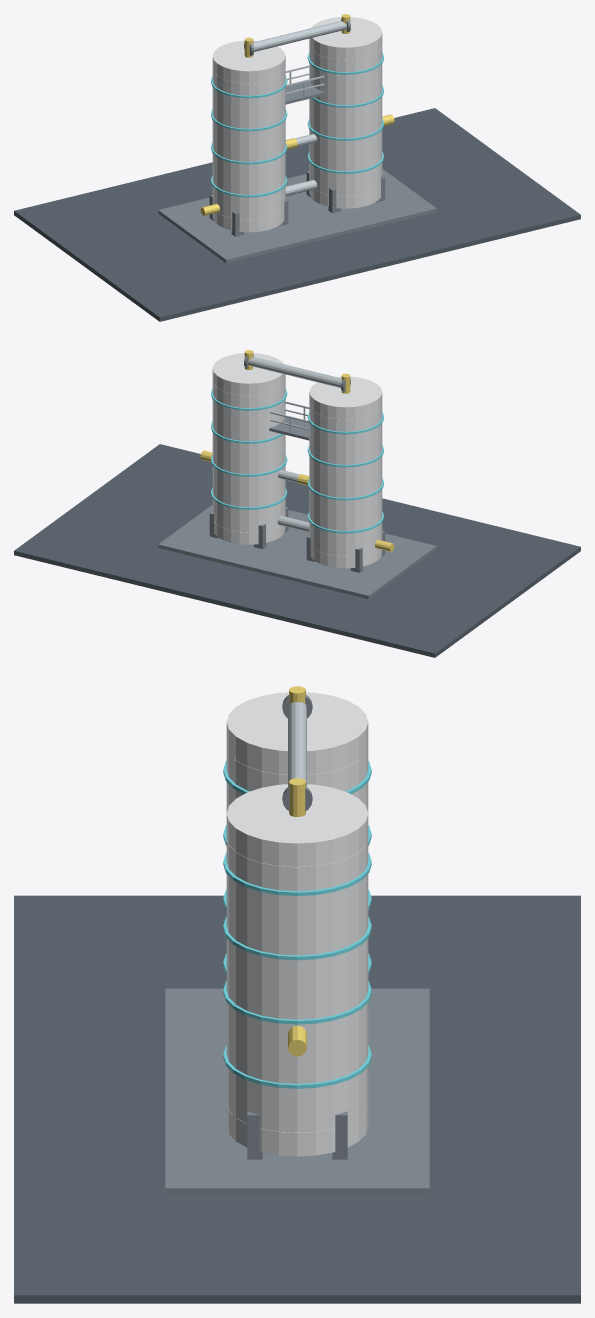
3 renders of one model, top to bottom at view 1: azimuth 30°, elevation 25°; view 2: azimuth 150°, elevation 25°; view 3: azimuth 270°, elevation 25°, orthographic. The views are drawn at different scales.
Visible parts, largest first — view 1: Ground, TankA_Body, TankB_Body, Pad, TankA_TopCap, TankB_TopCap, TopHeader, TankA_BottomCap, TankB_BottomCap, Platform; view 2: Ground, TankA_Body, TankB_Body, Pad, TankA_TopCap, TankB_TopCap, TopHeader, TankA_BottomCap, TankB_BottomCap, Platform; view 3: Ground, TankB_Body, Pad, TankB_TopCap, TankA_TopCap, TankB_BottomCap, TankA_Body, TopHeader, TankB_Ring_0, TankB_Ring_3, TankB_Ring_2, TankB_Ring_1.
Boxes of the visible parts, x1,y1,x2,y2 form: Ground: [14, 108, 580, 321]; TankA_Body: [212, 68, 285, 220]; TankB_Body: [309, 45, 382, 196]; Pad: [158, 169, 436, 263]; TankA_TopCap: [212, 40, 285, 83]; TankB_TopCap: [309, 17, 382, 59]; TopHeader: [253, 21, 346, 51]; TankA_BottomCap: [212, 209, 284, 232]; TankB_BottomCap: [309, 185, 380, 208]; Platform: [285, 81, 325, 104]; Ground: [14, 444, 580, 657]; TankA_Body: [309, 404, 382, 556]; TankB_Body: [212, 381, 285, 532]; Pad: [158, 505, 436, 599]; TankA_TopCap: [309, 376, 382, 419]; TankB_TopCap: [212, 353, 285, 395]; TopHeader: [248, 357, 341, 387]; TankA_BottomCap: [310, 545, 382, 568]; TankB_BottomCap: [214, 521, 285, 544]; Platform: [269, 417, 309, 440]; Ground: [14, 895, 580, 1303]; TankB_Body: [226, 838, 368, 1132]; Pad: [165, 988, 429, 1195]; TankB_TopCap: [226, 784, 368, 866]; TankA_TopCap: [226, 692, 368, 774]; TankB_BottomCap: [226, 1104, 368, 1156]; TankA_Body: [226, 746, 368, 812]; TopHeader: [288, 702, 306, 786]; TankB_Ring_0: [223, 1045, 371, 1088]; TankB_Ring_3: [223, 853, 371, 895]; TankB_Ring_2: [223, 917, 371, 960]; TankB_Ring_1: [223, 981, 371, 1024].
Bounding box in the file's own units: 20 × 8.6 × 12.
